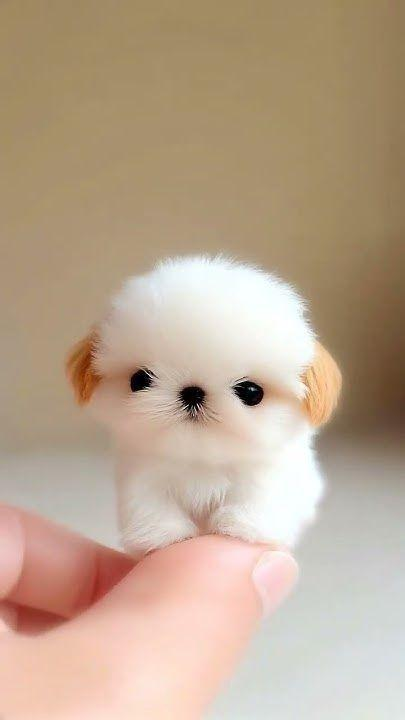non-dog: (64, 255, 343, 560)
